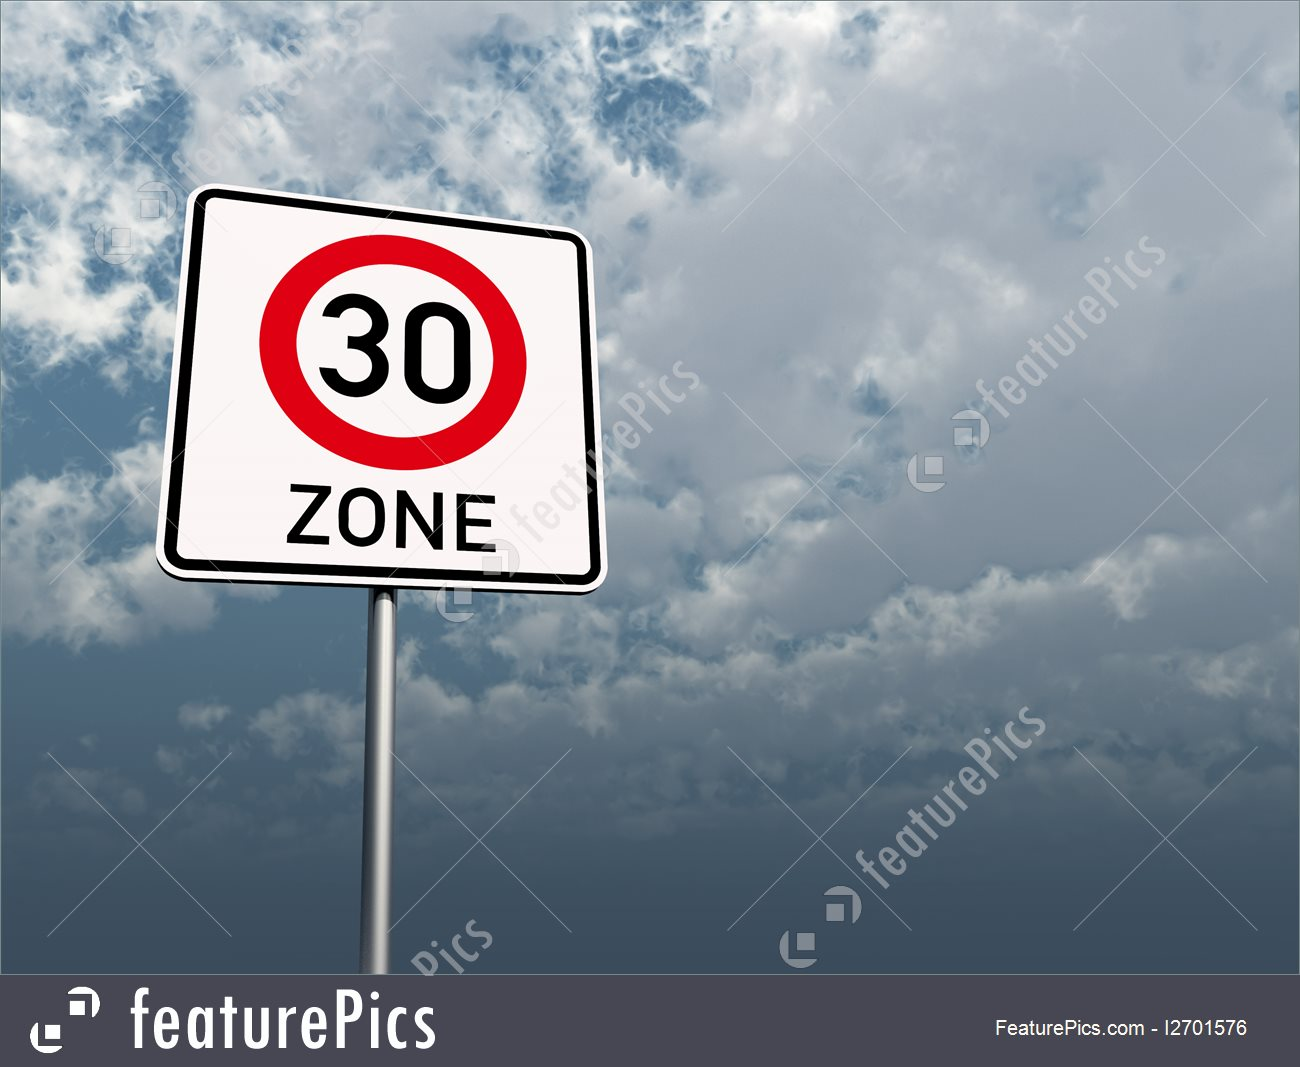Speed_limit_30km: (258, 231, 528, 475)
